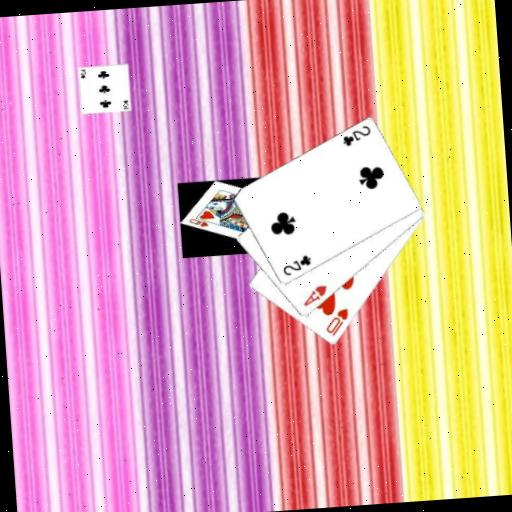10H: (322, 305, 352, 338)
2C: (279, 252, 314, 278), (338, 123, 373, 149)
AH: (299, 282, 330, 309)
